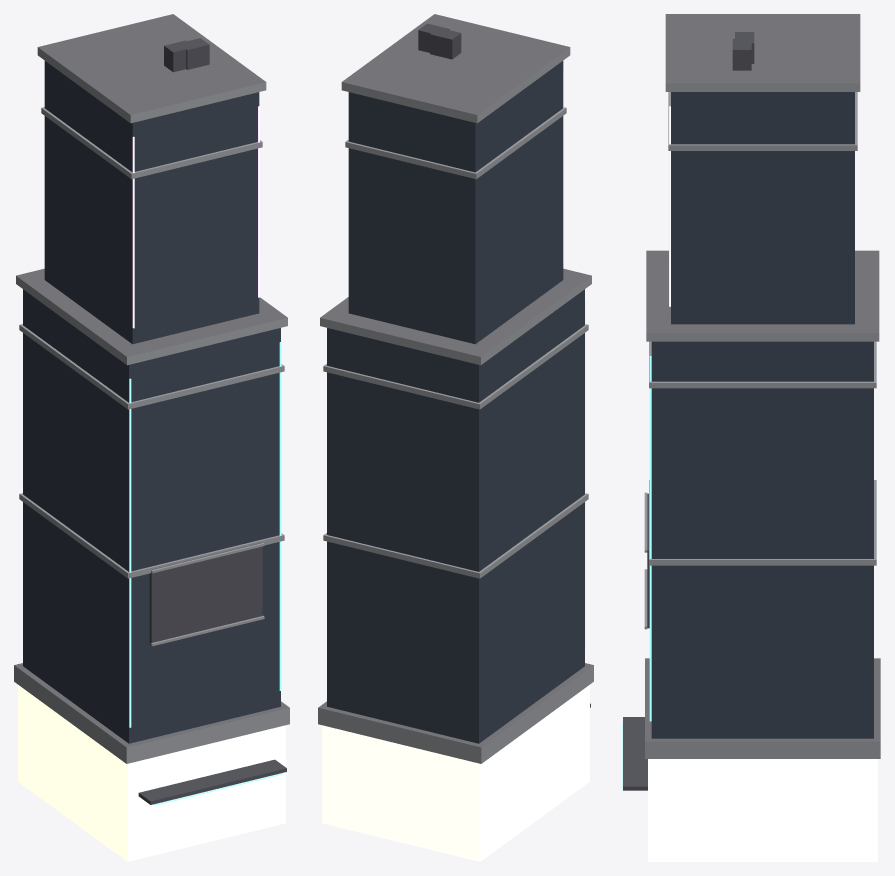
The model's file is r1012_glass.glb.
The picture shows the model from 3 angles, left to right: view 1: azimuth 30°, elevation 25°; view 2: azimuth 150°, elevation 25°; view 3: azimuth 270°, elevation 25°; orthographic projection. The views are drawn at different scales.
Visible parts, largest first — view 1: r1012_glass; view 2: r1012_glass; view 3: r1012_glass.
Boxes of the visible parts, left/top/right/bottom form: r1012_glass: left=14, top=14, right=289, bottom=861; r1012_glass: left=318, top=14, right=593, bottom=861; r1012_glass: left=622, top=14, right=880, bottom=861.
Bounding box in the file's own units: 10.3 × 45.7 × 13.49.
